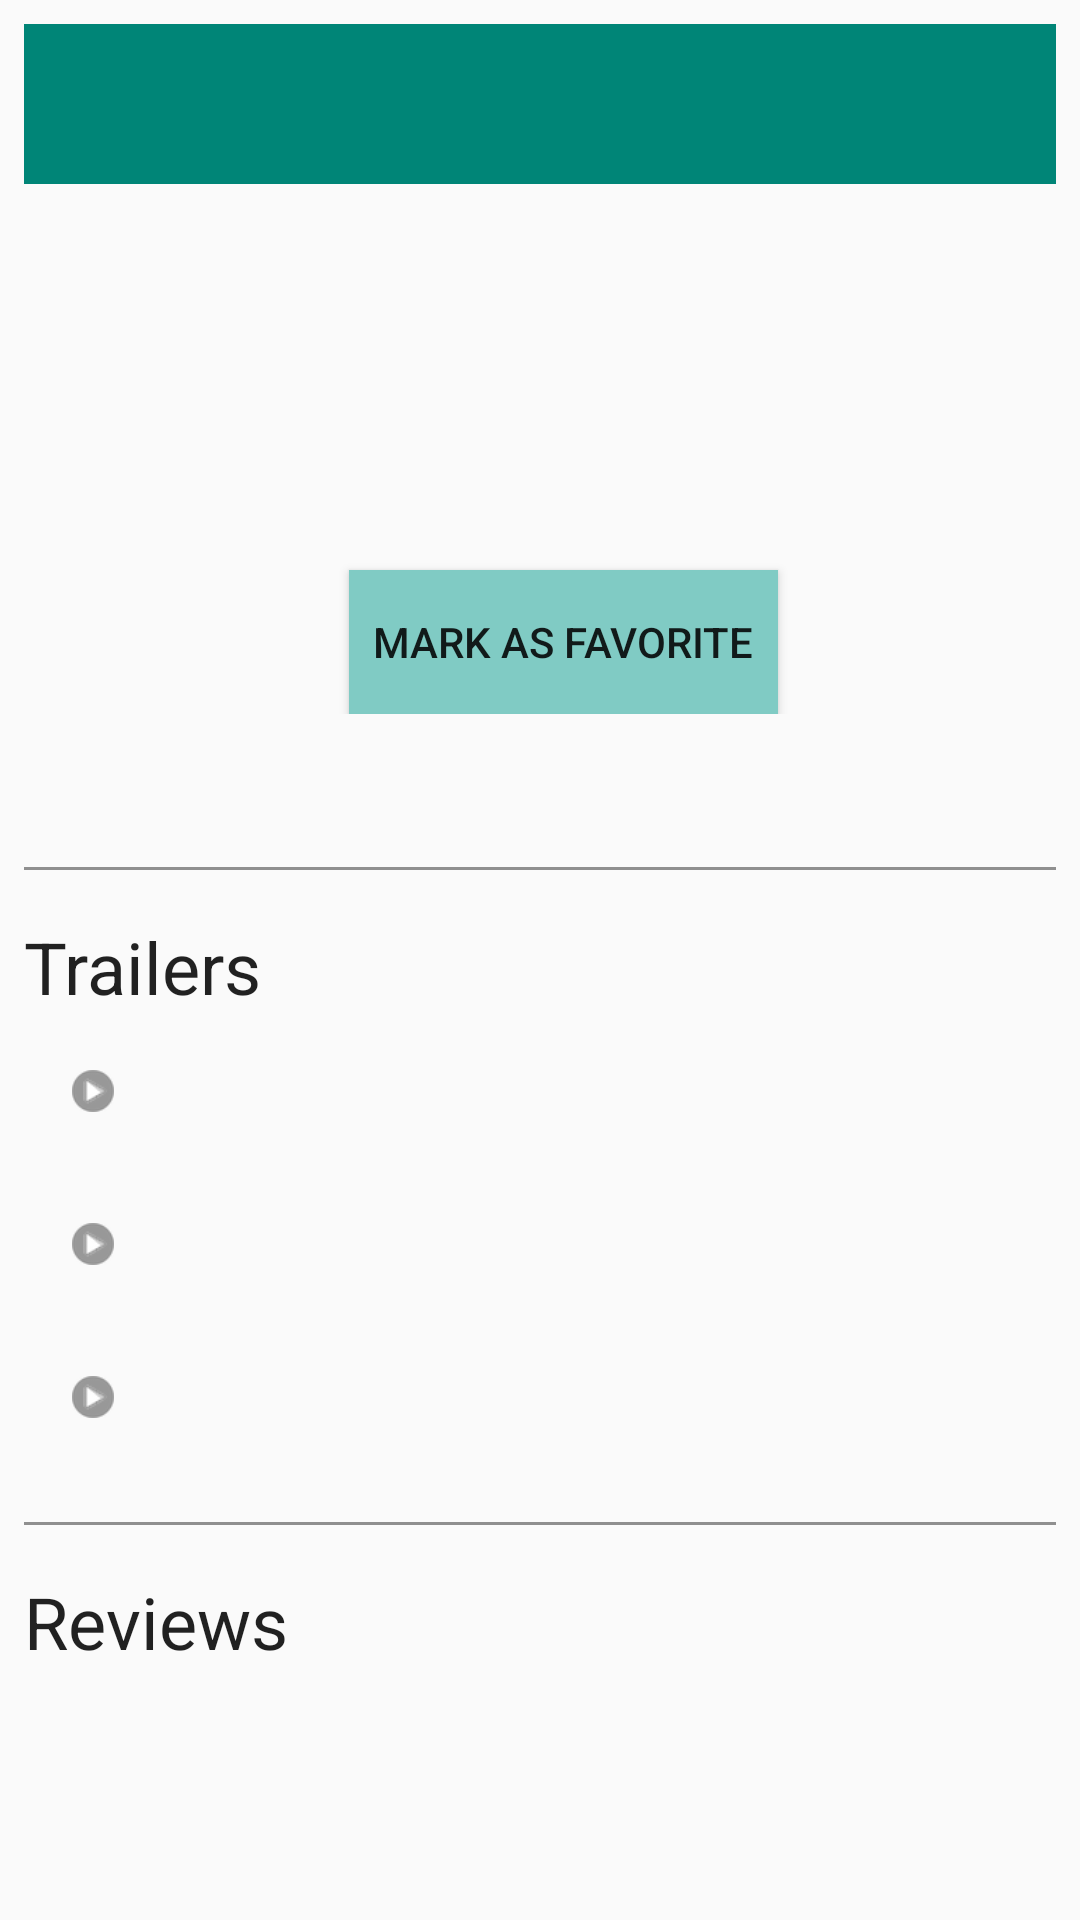

Screen size 1080px x 1920px. Icon name, then its box in pixels as BBox(x1, y1, x2, y2):
play video: BBox(72, 1070, 114, 1112), BBox(72, 1223, 114, 1265), BBox(72, 1376, 114, 1418)
